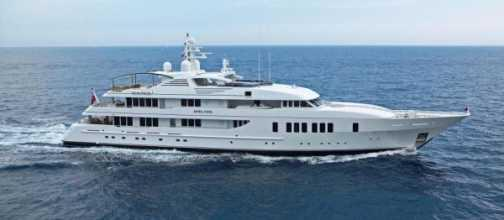yacht: (62, 41, 473, 155)
